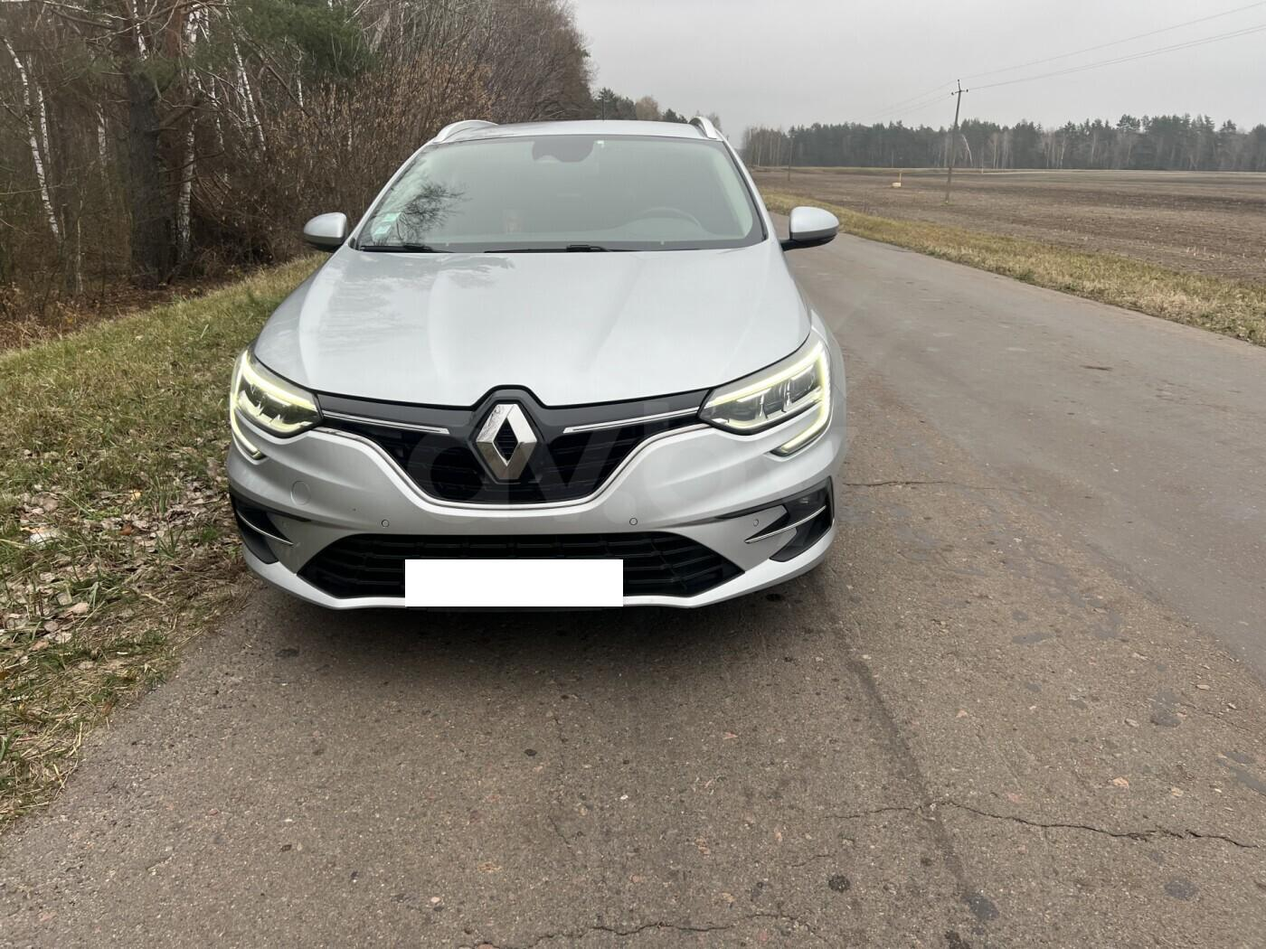Megane_2020: (223, 112, 855, 644)
